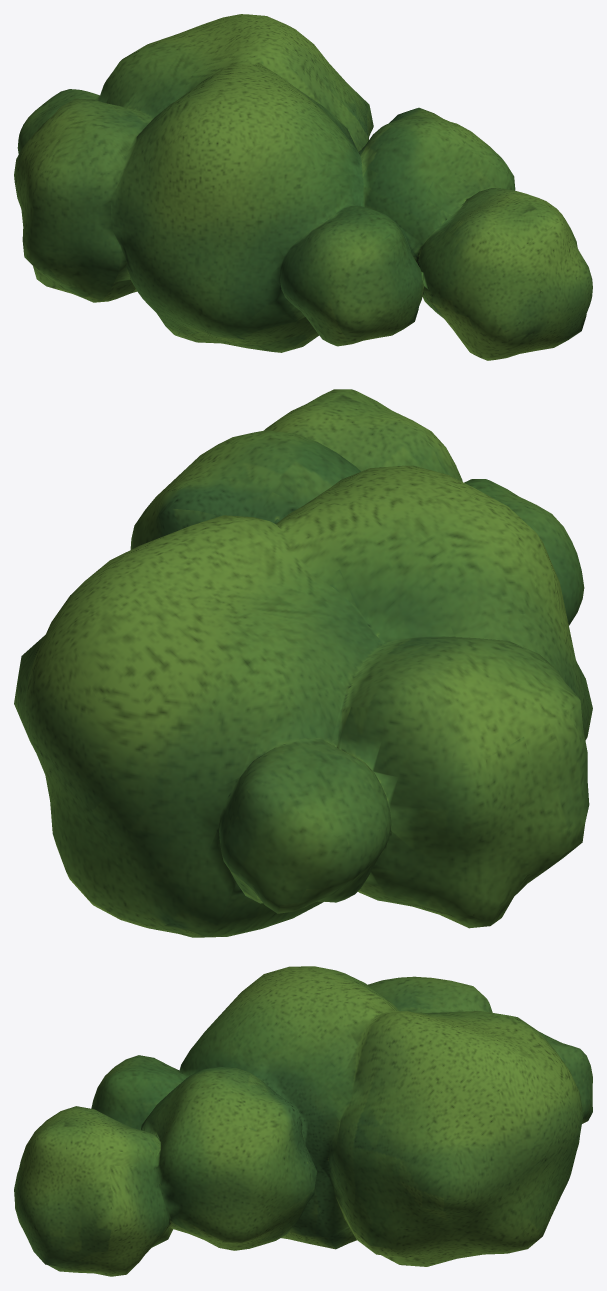
File: Bush.glb
3 views of the same model, one above another, from view 1: azimuth 30°, elevation 25°; view 2: azimuth 150°, elevation 25°; view 3: azimuth 270°, elevation 25° (orthographic). The views are drawn at different scales.
Parts seen in each view (by area): view 1: Bush; view 2: Bush; view 3: Bush.
Part boxes in pixels (left/top/right/bottom): Bush: left=14, top=14, right=592, bottom=360; Bush: left=14, top=389, right=592, bottom=937; Bush: left=14, top=966, right=592, bottom=1276.
Size of the model in its own units: 38.29 by 24.03 by 49.33.
Materials: 1 (1 with a texture image).
